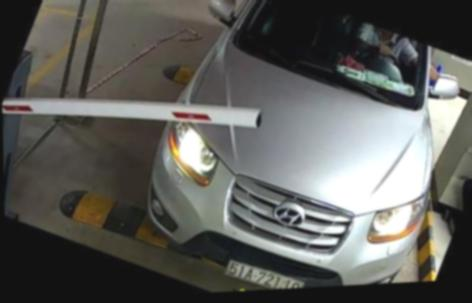License_Plate: (224, 249, 306, 291)
